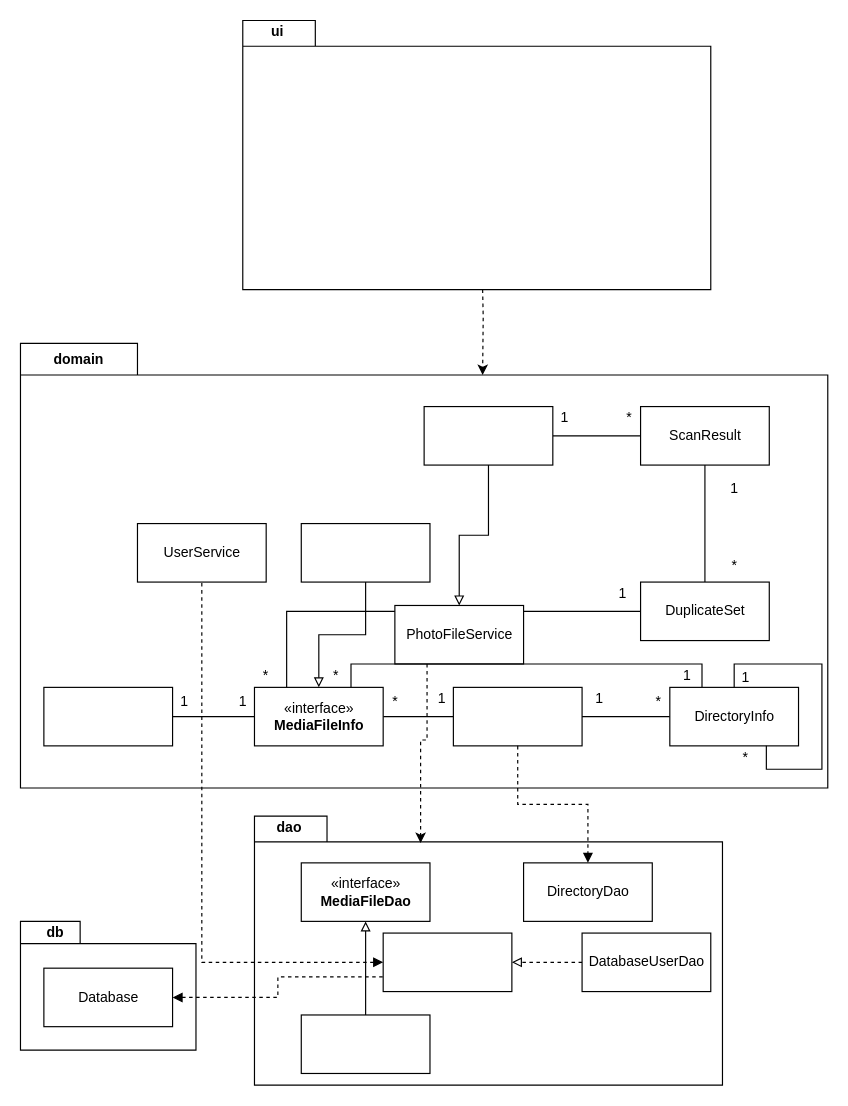
This 848x1106 diagram has some shape labels left out. Each missing label, with the centre of its shape:
"DirectoryService" belongs at [517,716].
"PhotoFileDao" belongs at [365,1043].
"PhotoFileInfo" belongs at [365,552].
"«interface» MediaFileService" belongs at [488,435].
"«interface» Metadata" belongs at [108,716].
"«interface» UserDao" belongs at [447,962].
